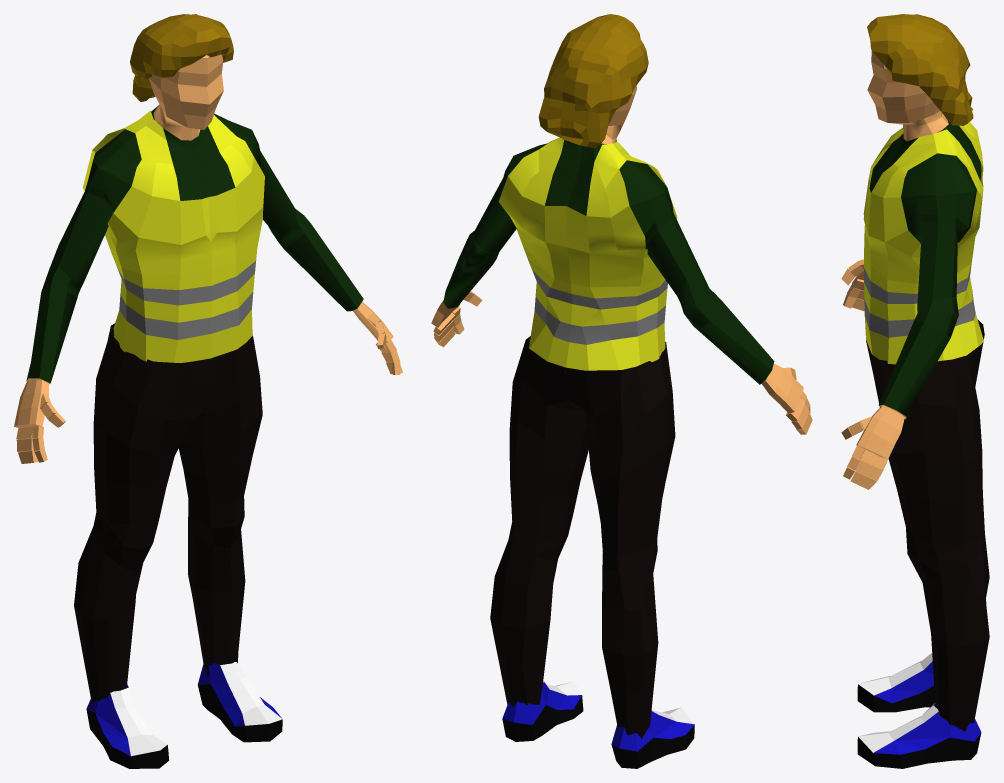
Rendered from NPC.obj.
The picture shows the model from 3 angles, left to right: view 1: azimuth 30°, elevation 25°; view 2: azimuth 150°, elevation 25°; view 3: azimuth 270°, elevation 25°; orthographic projection.
Parts seen in each view (by area): view 1: Pants, Jacket, Reduced_Body, Shoes, Hair; view 2: Pants, Jacket, Reduced_Body, Hair, Shoes; view 3: Pants, Reduced_Body, Jacket, Shoes, Hair.
Boxes of the visible parts, x1=… form: Pants: x1=74, y1=323, x2=262, y2=702; Jacket: x1=82, y1=110, x2=264, y2=362; Reduced_Body: x1=14, y1=54, x2=402, y2=463; Shoes: x1=86, y1=662, x2=282, y2=768; Hair: x1=130, y1=14, x2=233, y2=101; Pants: x1=490, y1=336, x2=675, y2=738; Jacket: x1=498, y1=137, x2=677, y2=372; Reduced_Body: x1=431, y1=86, x2=812, y2=434; Hair: x1=538, y1=14, x2=648, y2=148; Shoes: x1=502, y1=681, x2=694, y2=768; Pants: x1=866, y1=320, x2=989, y2=731; Reduced_Body: x1=841, y1=51, x2=981, y2=489; Jacket: x1=863, y1=122, x2=983, y2=364; Shoes: x1=857, y1=653, x2=981, y2=768; Hair: x1=867, y1=14, x2=973, y2=125.
Bounding box in the file's own units: 2.84 × 5.23 × 0.988.
